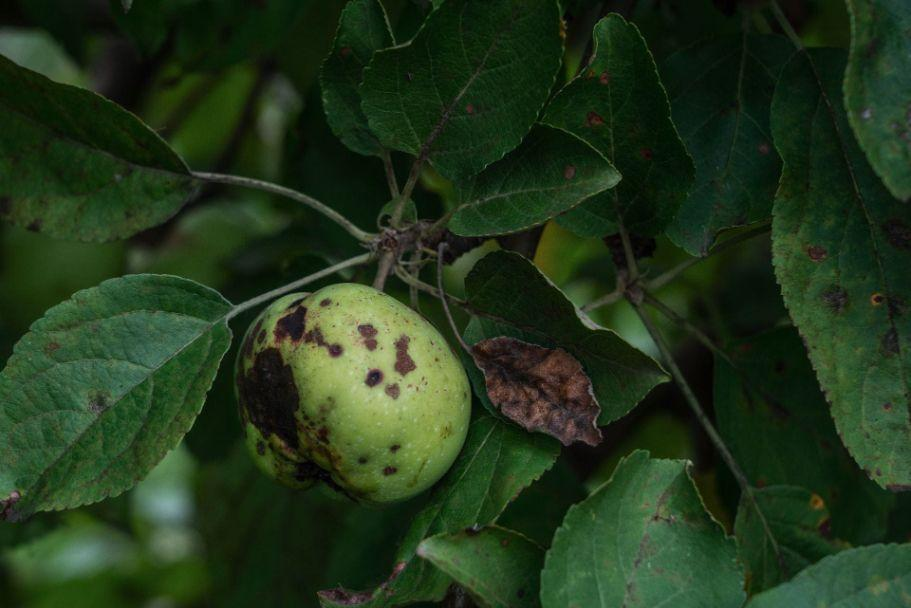SCAB: (211, 260, 501, 508)
